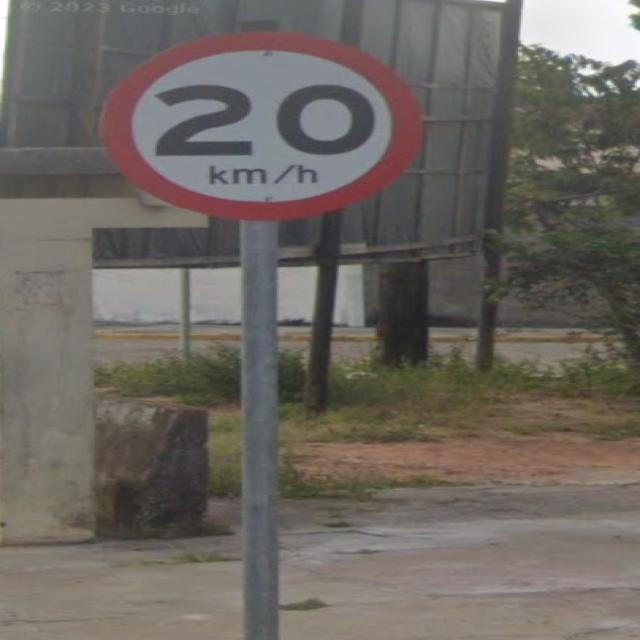speed limit: (60, 16, 452, 230)
